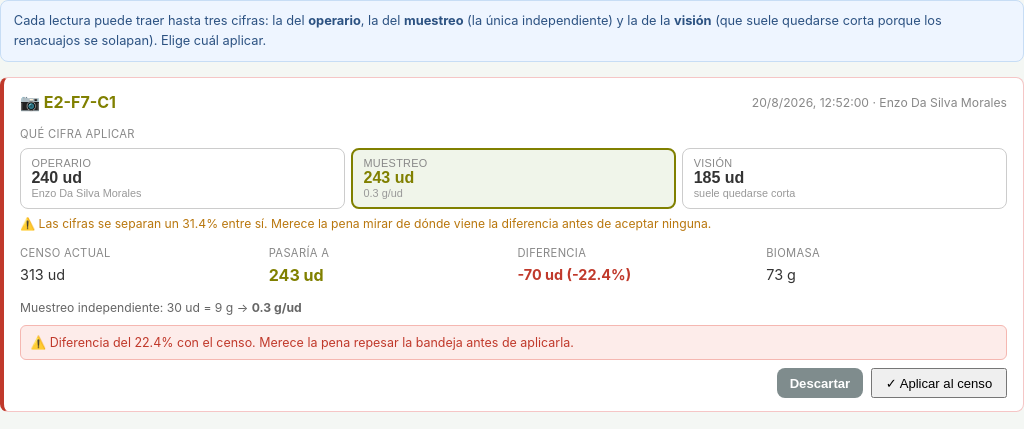
Scenario: ConteosIAPanel — las tres fuentes › al elegir otra fuente cambia la comparacion con el censo
Click the button "Visión 185 ud suele quedarse corta": [713, 163] box [682,148,1007,209]
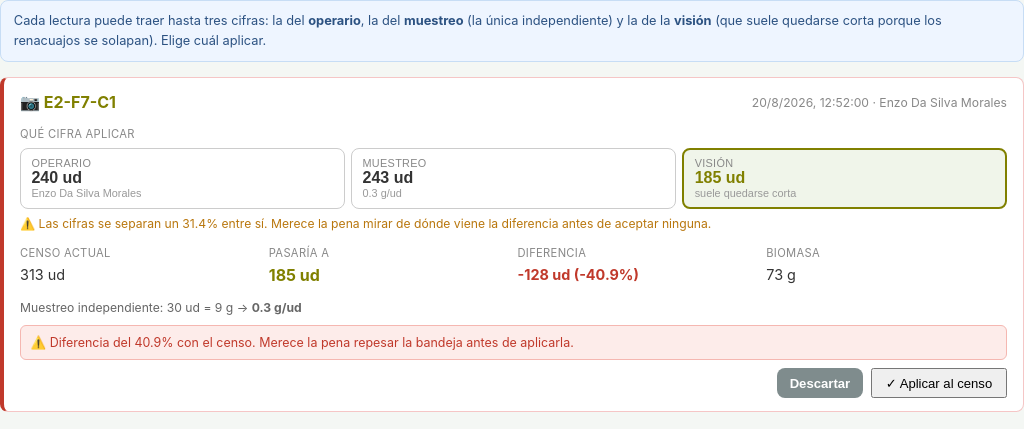
Expected: the text "-128 ud" is shown, [518,266,639,283]
